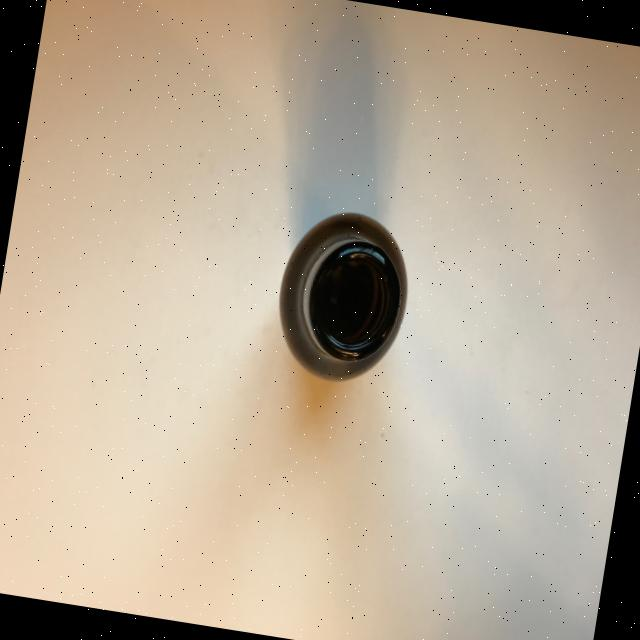glass: (266, 202, 419, 392)
